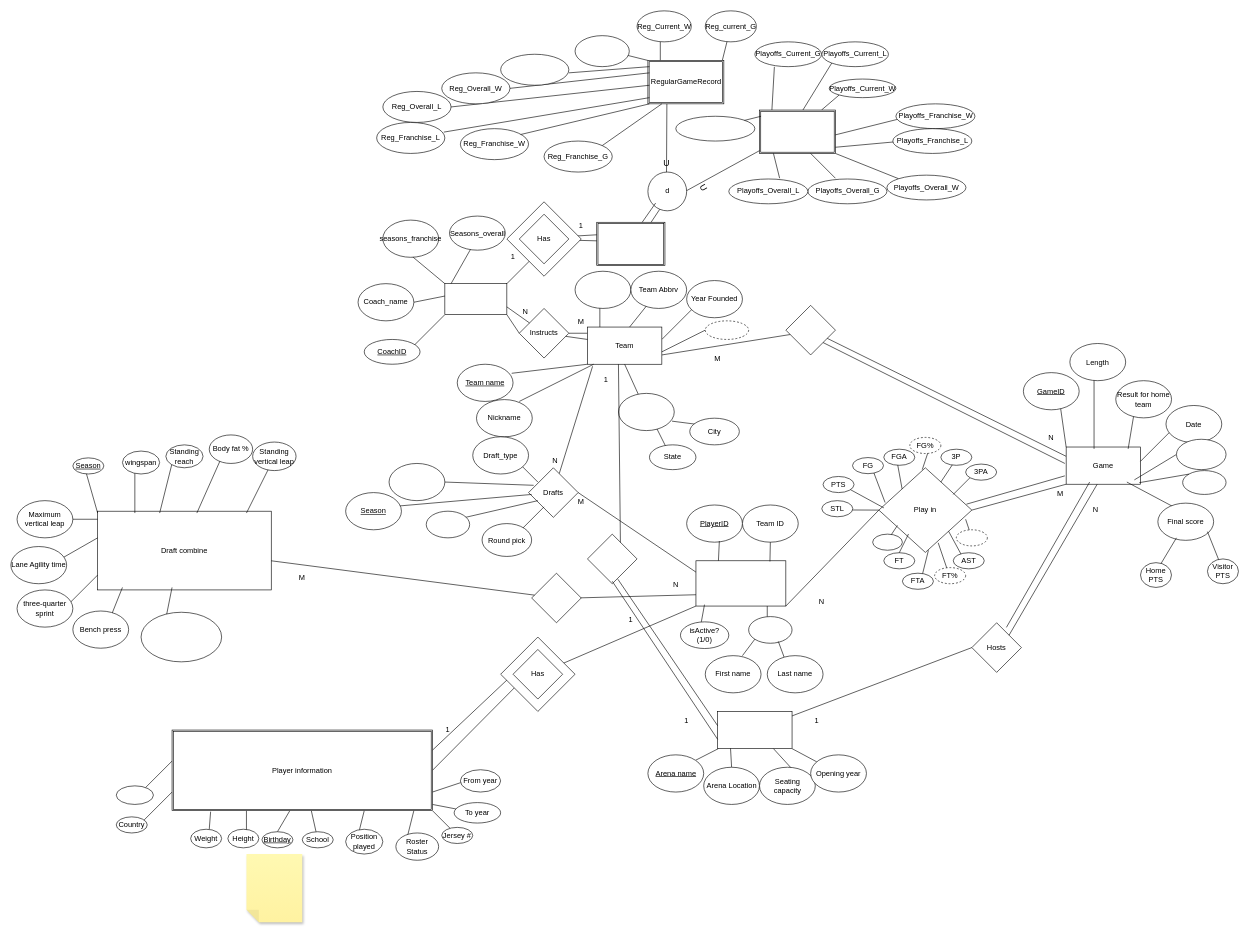
The diagram is 1249 pixels wide and 937 high, and some of its shapes have lost their labels. The shapes that lost their labels are listed below. From the top down, each one's centre as x and y in pixels, then its label:
At point (534, 69): "Reg_Overall_G".
At point (601, 51): "Reg_Current_L".
At point (715, 128): "Playoffs_Franchise_G".
At point (797, 131): "PlayoffGameRecord".
At point (630, 244): "GameRecord".
At point (475, 299): "Coach".
At point (602, 289): "Team_ID".
At point (727, 329): "Team Age".
At point (810, 330): "Play".
At point (646, 412): "Location".
At point (1201, 454): "Visitor Team Name".
At point (416, 482): "Round number".
At point (1204, 482): "Home Team Name".
At point (448, 524): "Organization".
At point (887, 542): "MP".
At point (971, 537): "3P%".
At point (612, 559): "Owns".
At point (556, 598): "Attends".
At point (740, 583): "Player".
At point (181, 637): "Height_wo_shoes_ft_in (barefoot height)".
At point (770, 629): "Name".
At point (754, 730): "Arena".
At point (134, 794): "Seasons played".
At point (275, 888): "Supposed to be dotted underline for Partial key".
